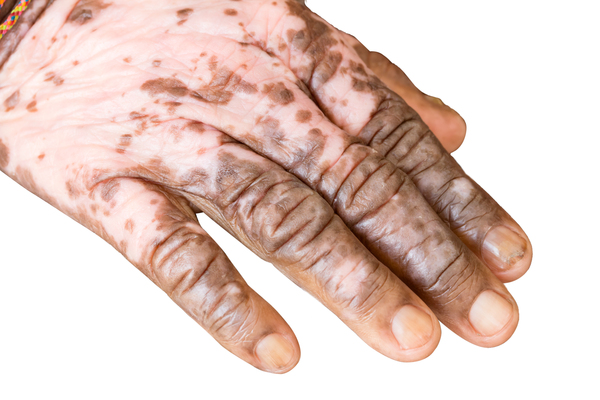vitiligo: (45, 5, 430, 266)
